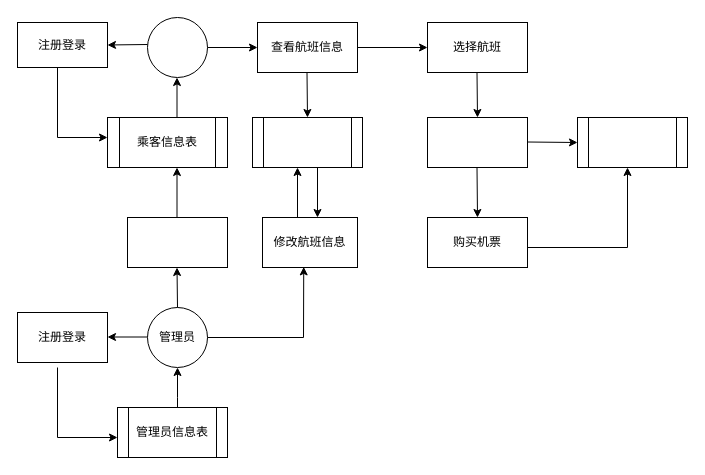
Some shapes in this 705 by 475 pixel diagram are drawn without their labels. The centre of each missing label's shape, as x and y in pixels:
乘客: pixel 177 47
机票表: pixel 632 142
查看乘客信息: pixel 177 242
查看机票信息: pixel 477 142
航班表: pixel 307 142
